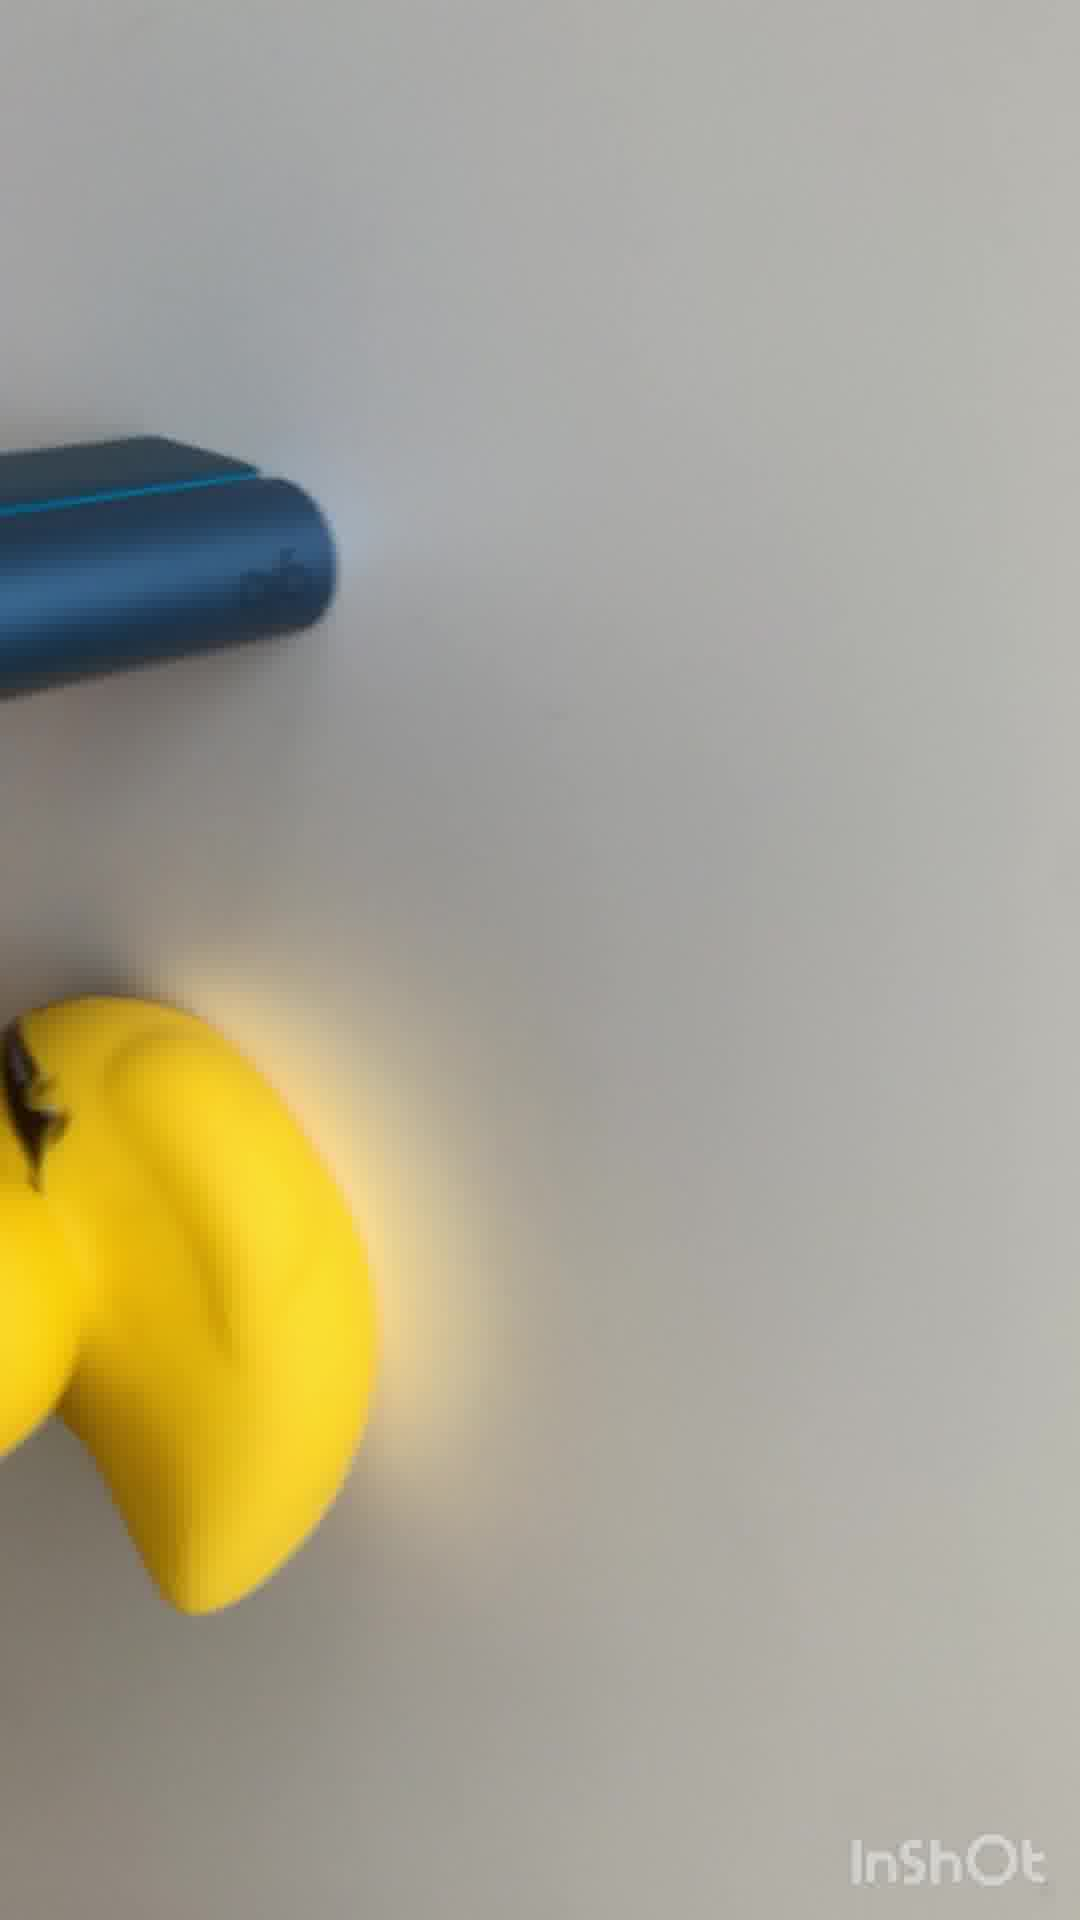duck: (1, 996, 385, 1621)
glo: (1, 423, 349, 698)
